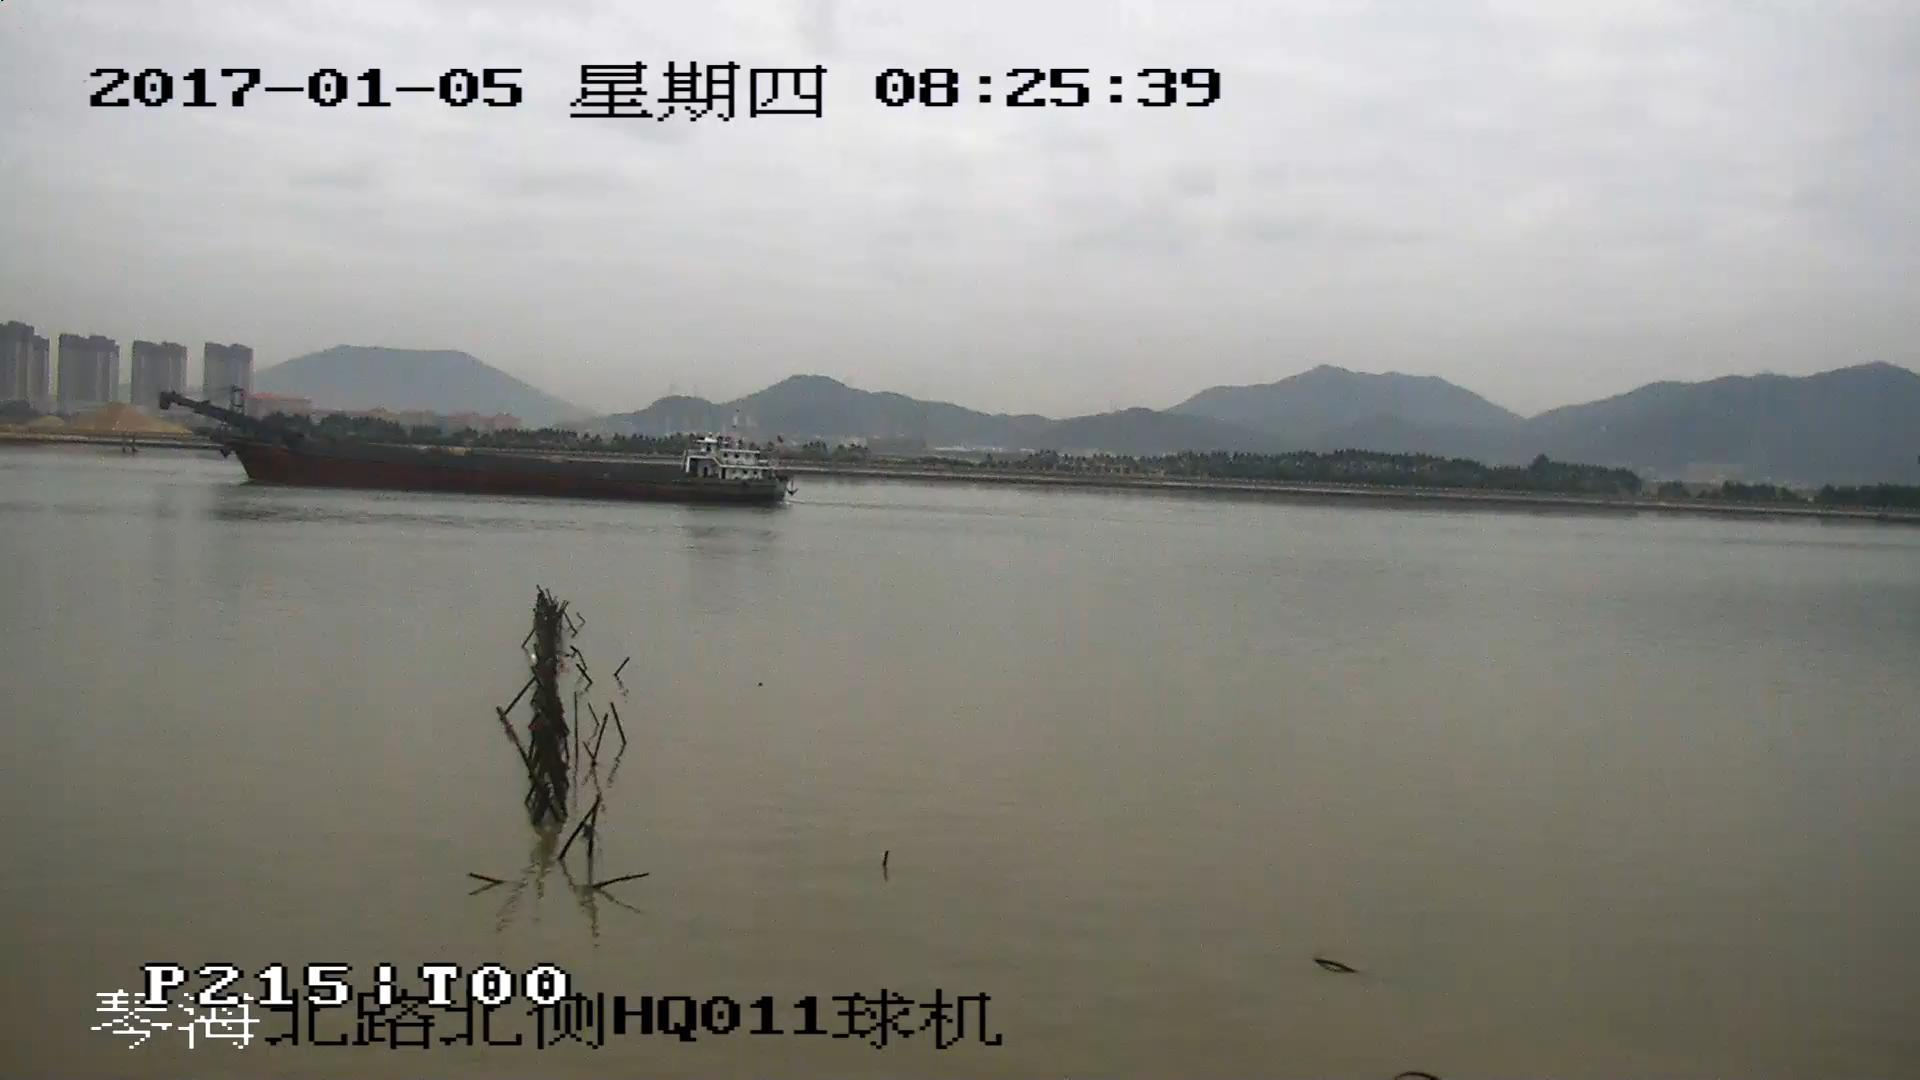Ship: (164, 392, 794, 508)
